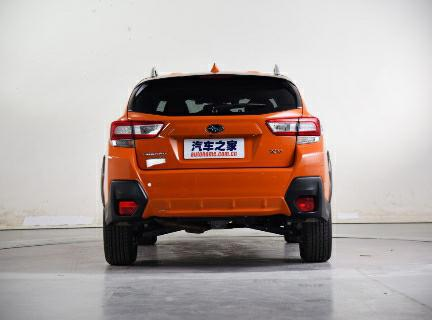斯巴鲁-XV: (95, 58, 343, 274)
